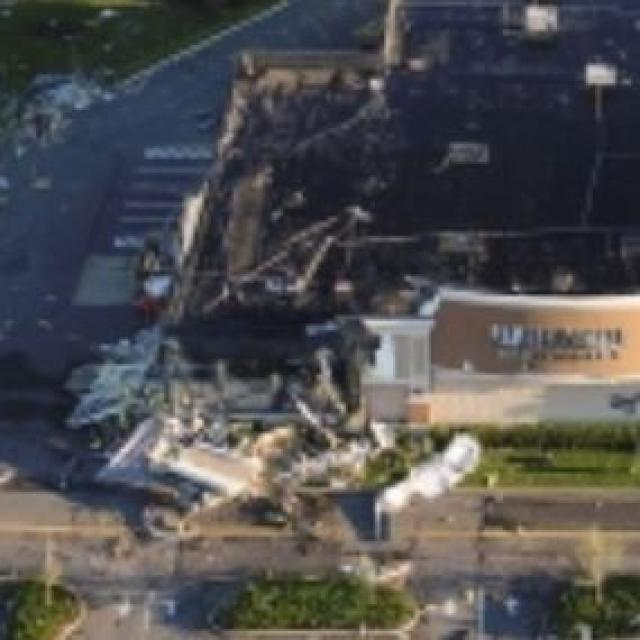collapsed_building: (155, 45, 638, 456)
